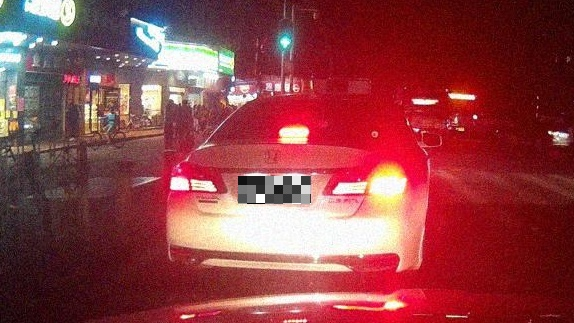L_light: (168, 160, 227, 193)
R_light: (321, 162, 409, 197)
T_light: (279, 128, 310, 137)
night-right: (164, 92, 421, 288)
plate_1: (238, 176, 311, 204)
